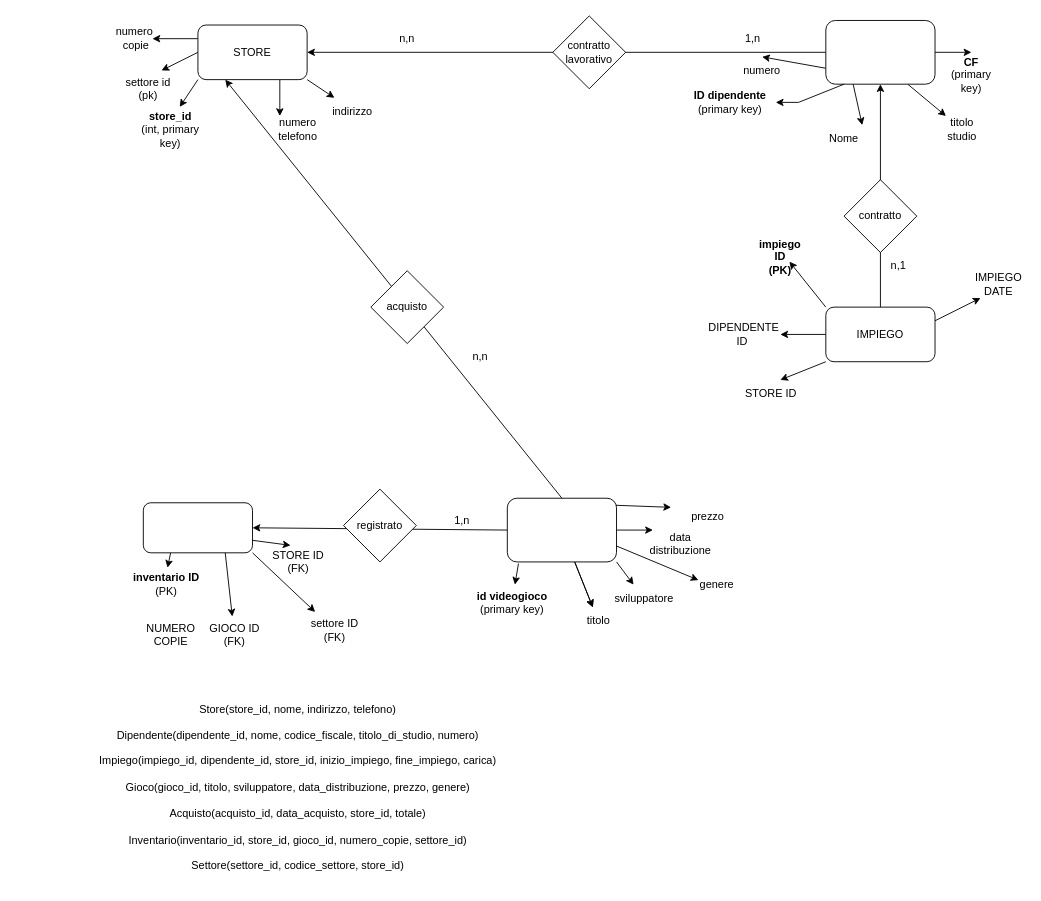
This 1041x901 diagram has some shape labels left out. Here are the shapes that lost their labels. From the top down, the box of each, then its label:
(825, 20, 935, 84): DIPENDENTE
(142, 502, 253, 553): INVENTARIO
(506, 497, 617, 562): GIOCO
